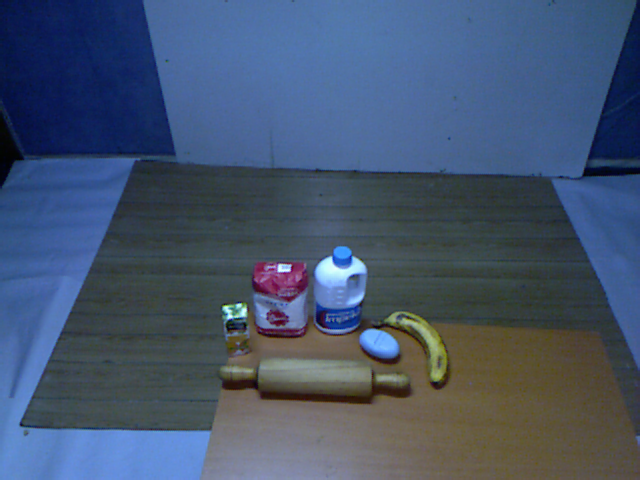cloro: (309, 243, 370, 339)
harina: (245, 257, 314, 343)
jabon: (355, 324, 403, 364)
jugoind: (217, 302, 256, 360)
platano: (371, 303, 456, 393)
uslero: (213, 347, 414, 405)
